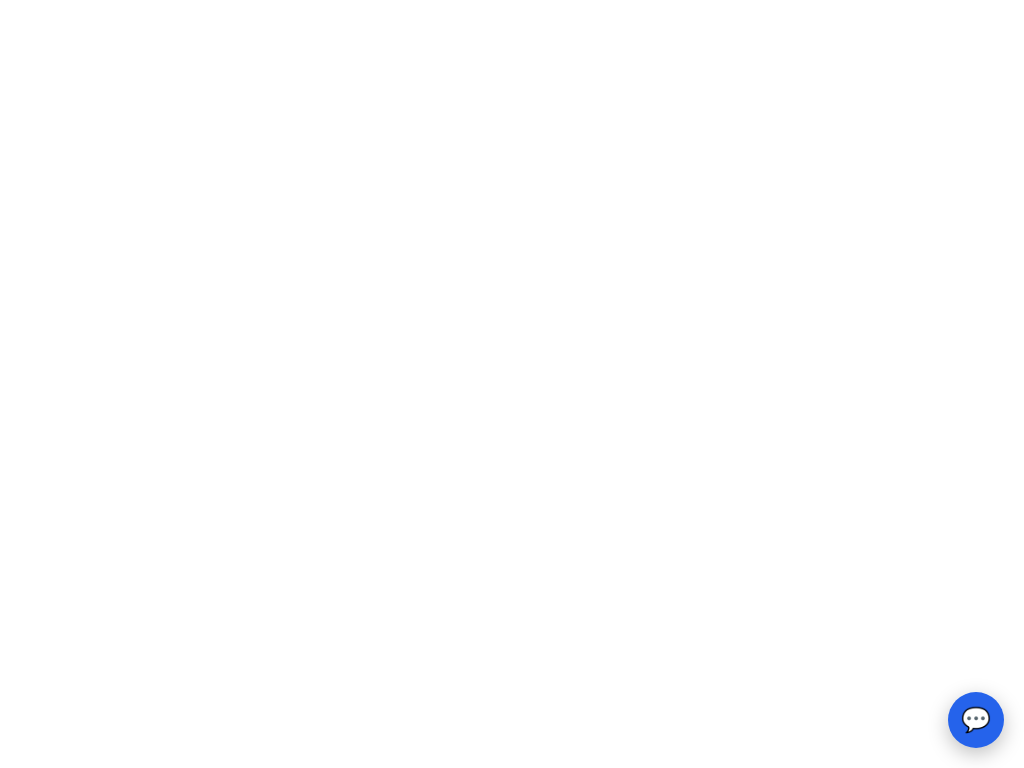
Test: ChatWidget accessibility › delete confirmation is an alertdialog that takes focus and Escape only cancels it
Click the button named "open support chat" at [976, 720], box [948,692,1004,748]
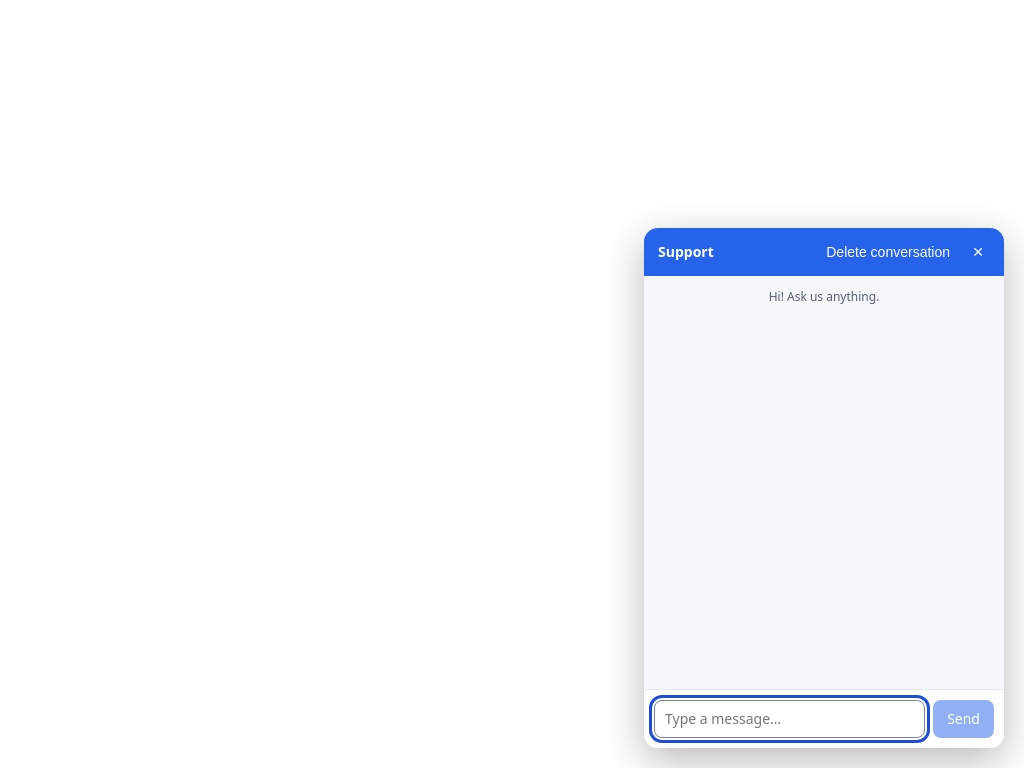
Check: the field labelled "message" is enabled, box [654,700,925,738]
Click the button "Delete conversation" at [888, 252], box [820,240,956,264]
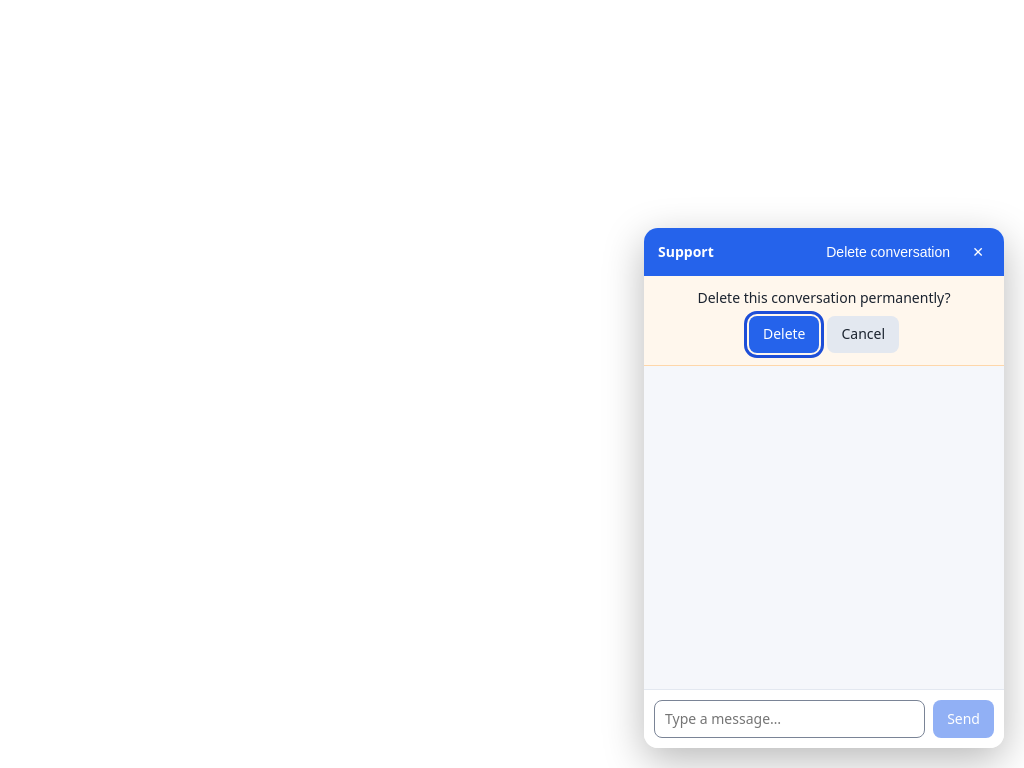
Check: the dialog named "Confirm delete" is shown, box [644,276,1004,366]
Press Escape
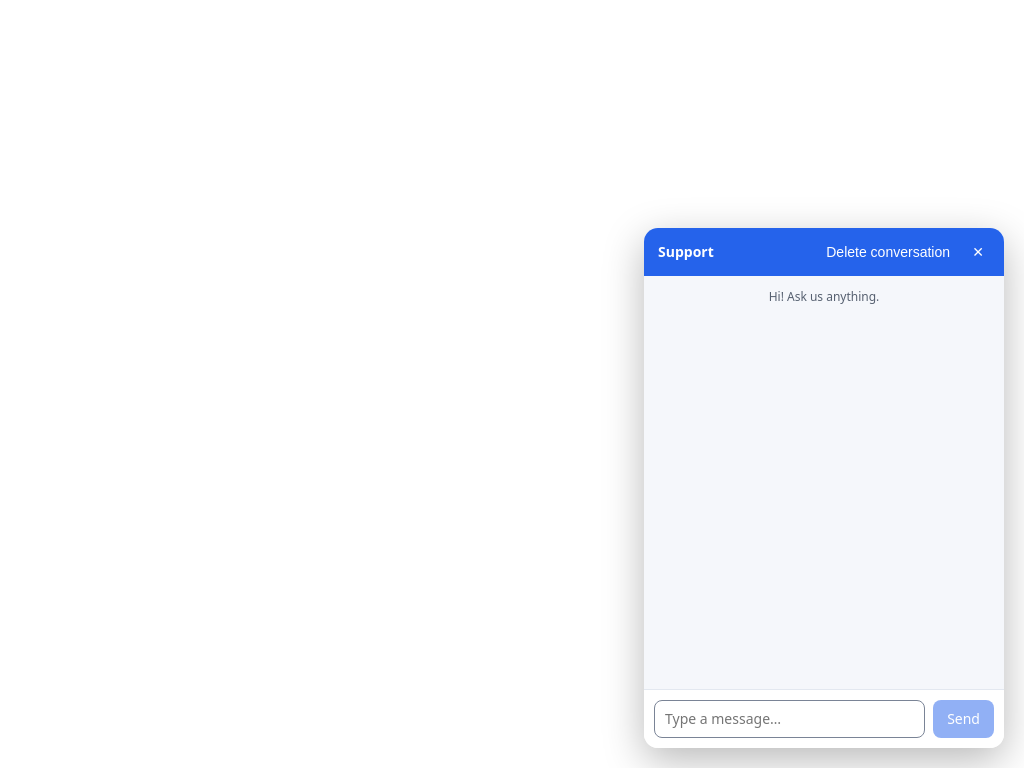
Check: the dialog is shown, box [644,228,1004,748]
Check: the dialog "Delete this conversation permanently? Delete Cancel" is gone
